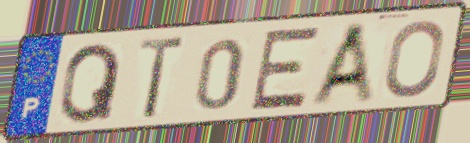0: (192, 36, 251, 112)
A: (307, 19, 379, 107)
E: (246, 24, 324, 114)
O: (382, 17, 446, 101)
Q: (58, 40, 125, 126)
T: (136, 34, 189, 122)
